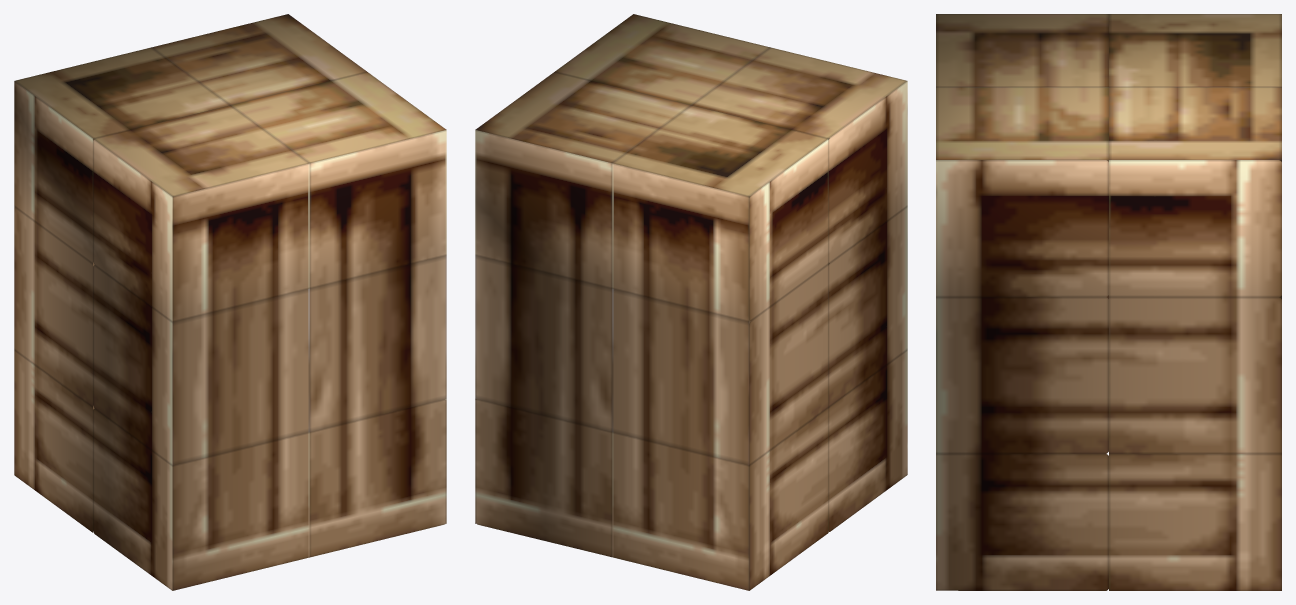
3 renders of one model, left to right at view 1: azimuth 30°, elevation 25°; view 2: azimuth 150°, elevation 25°; view 3: azimuth 270°, elevation 25°, orthographic. The views are drawn at different scales.
Visible parts, largest first — view 1: T1L2M009_36; view 2: T1L2M009_36; view 3: T1L2M009_36.
Part boxes in pixels (x1,y1,x2,y2): T1L2M009_36: (14,14,446,590); T1L2M009_36: (475,14,907,590); T1L2M009_36: (936,14,1281,590).
Bounding box in the file's own units: 1.6 × 2.2 × 1.6.
